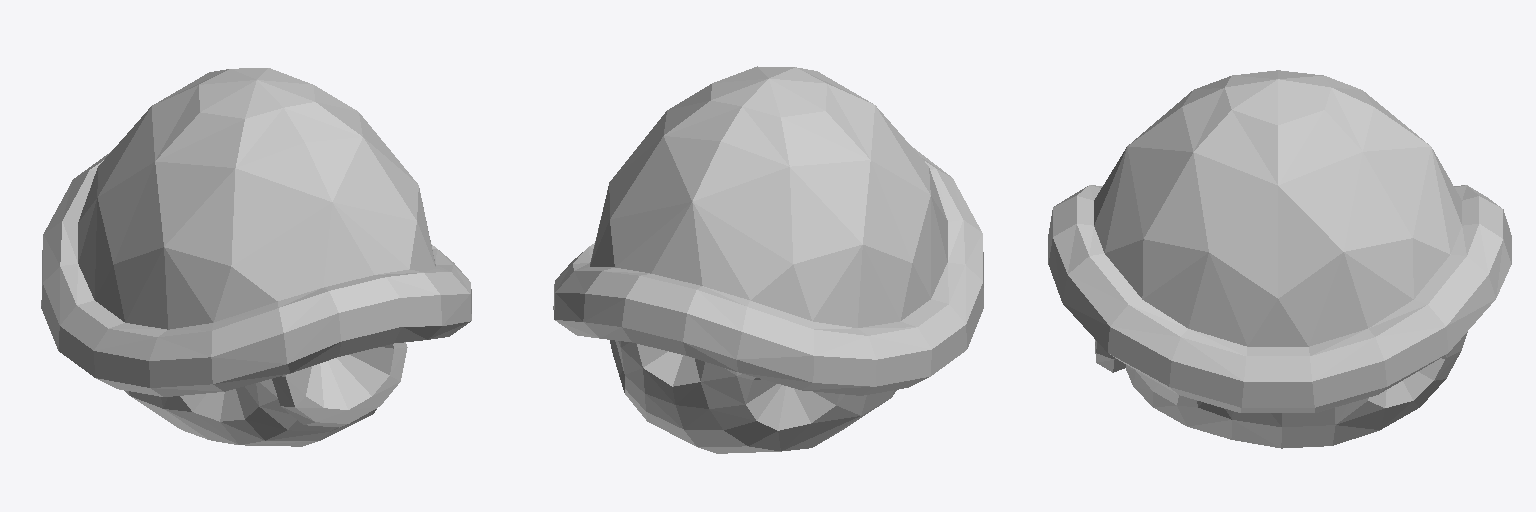
The model's file is ITEM_RED_SHELL.OBJ.
3 views of the same model, side by side, from view 1: azimuth 30°, elevation 25°; view 2: azimuth 150°, elevation 25°; view 3: azimuth 270°, elevation 25° (orthographic).
Parts seen in each view (by area): view 1: ItemKoura__m_ItemKoura; view 2: ItemKoura__m_ItemKoura; view 3: ItemKoura__m_ItemKoura.
Boxes of the visible parts, box(x1,y1,x2,y2) form: ItemKoura__m_ItemKoura: box(41, 68, 471, 446); ItemKoura__m_ItemKoura: box(553, 66, 983, 453); ItemKoura__m_ItemKoura: box(1048, 70, 1511, 448).
Bounding box in the file's own units: 7.42 × 6.96 × 8.26.